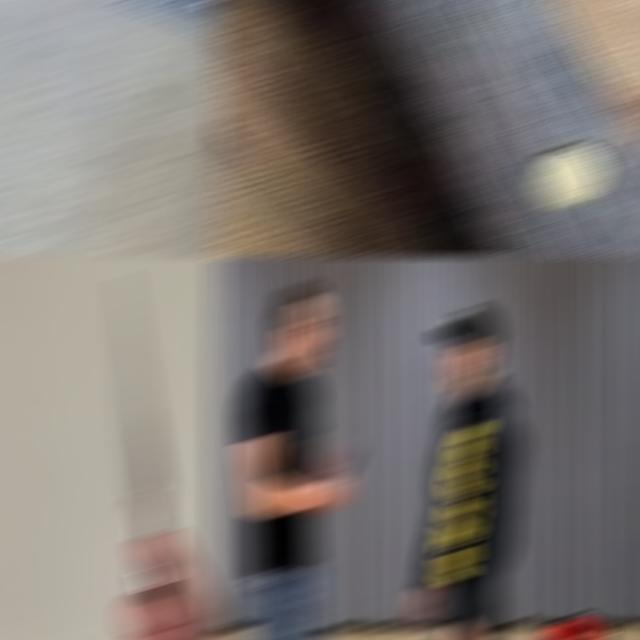Knife_Handle: (112, 274, 224, 638), (306, 444, 359, 513)
